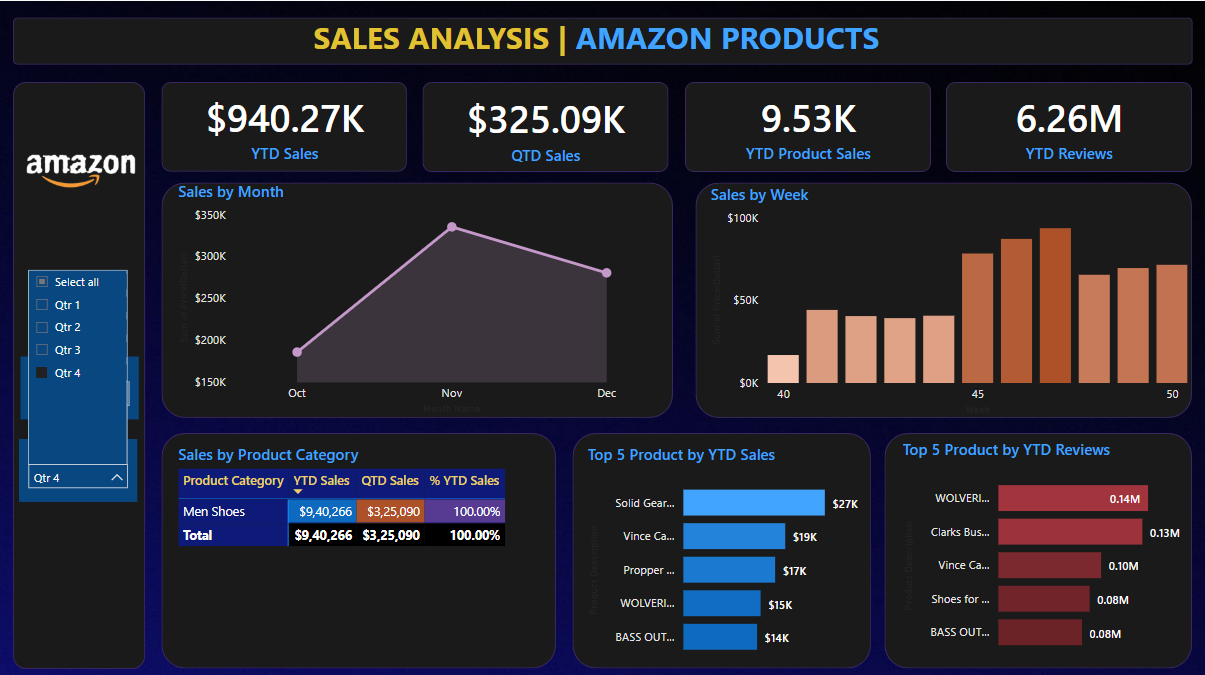

This screenshot's page, from the dashboard's own definition file:
{"tool":"powerbi","page":{"name":"Page 1","canvas":[1280,720],"ordinal":0},"visuals":[{"type":"shape","box":[15.9,17.5,1250,50],"z":0},{"type":"textbox","box":[329,11.1,624.6,62],"z":1000},{"type":"shape","box":[15.9,85.8,140,622],"z":2000},{"type":"shape","box":[173.2,85.8,260,95],"z":3000,"group":"g1"},{"type":"shape","box":[173.2,192.3,542,249.5],"z":3000},{"type":"card","fields":{"Values":["Amazon_Data.YTD Sales"]},"box":[173.2,85.8,260.7,93.8],"z":4000,"group":"g1"},{"type":"group","id":"g1","title":"Group 1","box":[173.2,85.8,1091.9,95.4],"z":4000},{"type":"shape","box":[449.8,85.8,260.7,95.4],"z":5000,"group":"g1"},{"type":"areaChart","title":"Sales by Month","fields":{"Category":["Date Table.Month Name"],"Y":["Sum(Amazon_Data.Price(Dollar))"]},"box":[186,190.7,529.3,251.1],"z":5000},{"type":"shape","box":[727.2,85.8,260.7,95.4],"z":6000,"group":"g1"},{"type":"shape","box":[739.1,192.3,526.1,249.5],"z":6000},{"type":"shape","box":[1004.5,85.8,260.7,95.4],"z":7000,"group":"g1"},{"type":"columnChart","title":"Sales by Week","fields":{"Y":["Sum(Amazon_Data.Price(Dollar))"],"Category":["Date Table.Week"]},"box":[750.2,193.9,515,249.5],"z":7000},{"type":"card","fields":{"Values":["Amazon_Data.QTD Sales"]},"box":[449.8,87.4,260.7,93.8],"z":8000,"group":"g1"},{"type":"shape","box":[173.2,457.7,418,249.5],"z":8000},{"type":"card","fields":{"Values":["Amazon_Data.YTD Product Sales"]},"box":[727.9,85.8,260.7,93.8],"z":9000,"group":"g1"},{"type":"shape","box":[608.7,457.7,316.3,249.5],"z":9000},{"type":"card","fields":{"Values":["Amazon_Data.YTD Reviews"]},"box":[1004.5,85.8,260.7,93.8],"z":10000,"group":"g1"},{"type":"shape","box":[939.3,457.7,325.8,249.5],"z":10000},{"type":"pivotTable","title":"Sales by Product Category","fields":{"Rows":["Amazon_Data.Product Category"],"Values":["Amazon_Data.YTD Sales1","Amazon_Data.QTD Sales","Amazon_Data.YTD Sales"]},"box":[186,468.9,394.2,238.4],"z":11000},{"type":"clusteredBarChart","title":"Top 5 Product by YTD Sales","fields":{"Category":["Amazon_Data.Product Description"],"Y":["Amazon_Data.YTD Sales"]},"box":[619.9,468.9,305.2,238.4],"z":12000},{"type":"clusteredBarChart","title":"Top 5 Product by YTD Reviews","fields":{"Category":["Amazon_Data.Product Description"],"Y":["Amazon_Data.YTD Reviews"]},"box":[953.6,464.1,305.2,238.4],"z":13000},{"type":"slicer","fields":{"Values":["Amazon_Data.Product Category"]},"box":[23.8,376.7,125.6,66.8],"z":14000},{"type":"slicer","fields":{"Values":["Date Table.Qtr"]},"box":[22.3,464.1,125.6,66.8],"z":15000},{"type":"image","box":[19.1,114.4,136.7,128.7],"z":16000},{"type":"textbox","box":[35,325.8,71.5,35],"z":17000}]}

Visuals, with their boxes in screenshot pixels (x1, y1, x2, y2), scaled from the page's 1280x720 canvas onto the 1205x675 screenshot:
shape: [x1=15, y1=16, x2=1192, y2=63]
textbox: [x1=310, y1=10, x2=898, y2=69]
shape: [x1=15, y1=80, x2=147, y2=664]
shape: [x1=163, y1=80, x2=408, y2=170]
shape: [x1=163, y1=180, x2=673, y2=414]
card - Amazon_Data.YTD Sales: [x1=163, y1=80, x2=408, y2=168]
"Group 1" group: [x1=163, y1=80, x2=1191, y2=170]
shape: [x1=423, y1=80, x2=669, y2=170]
"Sales by Month" areaChart: [x1=175, y1=179, x2=673, y2=414]
shape: [x1=685, y1=80, x2=930, y2=170]
shape: [x1=696, y1=180, x2=1191, y2=414]
shape: [x1=946, y1=80, x2=1191, y2=170]
"Sales by Week" columnChart: [x1=706, y1=182, x2=1191, y2=416]
card - Amazon_Data.QTD Sales: [x1=423, y1=82, x2=669, y2=170]
shape: [x1=163, y1=429, x2=557, y2=663]
card - Amazon_Data.YTD Product Sales: [x1=685, y1=80, x2=931, y2=168]
shape: [x1=573, y1=429, x2=871, y2=663]
card - Amazon_Data.YTD Reviews: [x1=946, y1=80, x2=1191, y2=168]
shape: [x1=884, y1=429, x2=1191, y2=663]
"Sales by Product Category" pivotTable: [x1=175, y1=440, x2=546, y2=663]
"Top 5 Product by YTD Sales" clusteredBarChart: [x1=584, y1=440, x2=871, y2=663]
"Top 5 Product by YTD Reviews" clusteredBarChart: [x1=898, y1=435, x2=1185, y2=659]
slicer - Amazon_Data.Product Category: [x1=22, y1=353, x2=141, y2=416]
slicer - Date Table.Qtr: [x1=21, y1=435, x2=139, y2=498]
image: [x1=18, y1=107, x2=147, y2=228]
textbox: [x1=33, y1=305, x2=100, y2=338]
